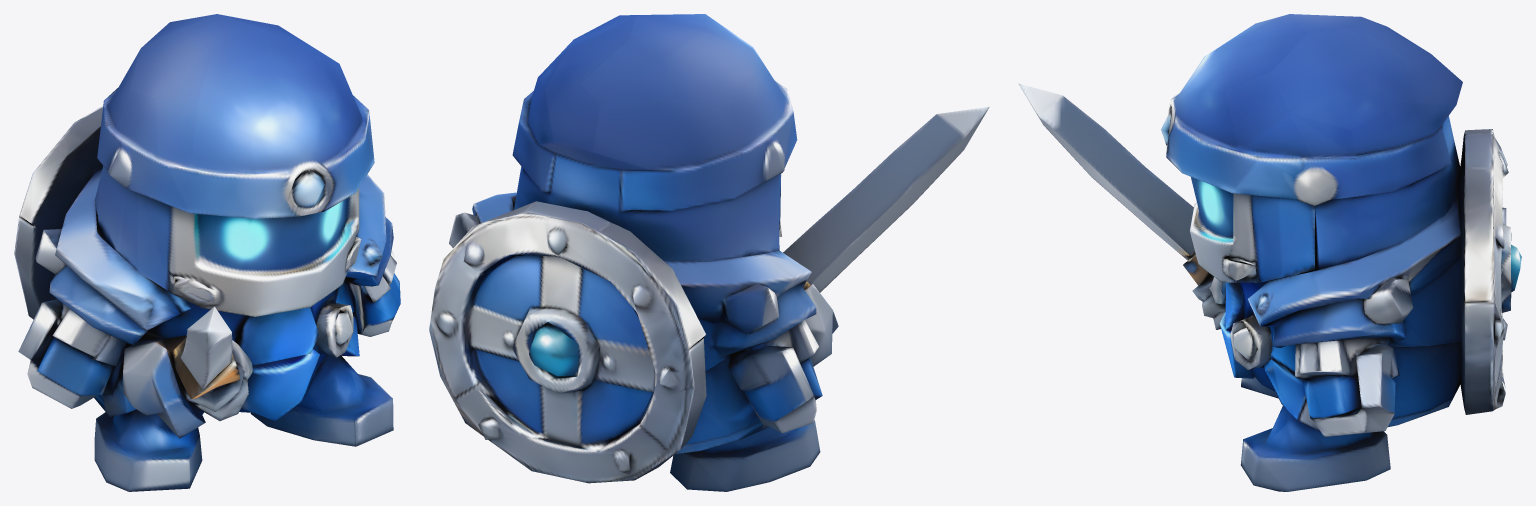
Rendered from Soldier_base_basic_shaded.fbx.
3 renders of one model, left to right at view 1: azimuth 30°, elevation 25°; view 2: azimuth 150°, elevation 25°; view 3: azimuth 270°, elevation 25°, orthographic. The views are drawn at different scales.
Parts seen in each view (by area): view 1: root.0, root.2, root.1, root.4, root.3, root.5, root.6, root.8, root.10; view 2: root.0, root.1, root.2, root.4, root.7, root.5, root.8; view 3: root.0, root.1, root.2, root.3, root.6, root.9, root.7, root.10.
Boxes of the visible parts, left/top/right/bottom form: root.0: left=49, top=14, right=396, bottom=420; root.2: left=123, top=306, right=253, bottom=438; root.1: left=14, top=106, right=103, bottom=319; root.4: left=94, top=409, right=202, bottom=491; root.3: left=250, top=355, right=393, bottom=446; root.5: left=18, top=299, right=126, bottom=408; root.6: left=356, top=273, right=400, bottom=336; root.8: left=35, top=228, right=65, bottom=274; root.10: left=335, top=312, right=353, bottom=345; root.0: left=472, top=14, right=818, bottom=454; root.1: left=429, top=201, right=706, bottom=483; root.2: left=783, top=107, right=989, bottom=366; root.4: left=670, top=420, right=820, bottom=491; root.7: left=512, top=307, right=599, bottom=393; root.5: left=728, top=344, right=822, bottom=433; root.8: left=721, top=283, right=778, bottom=333; root.0: left=1161, top=14, right=1462, bottom=430; root.1: left=1458, top=129, right=1508, bottom=414; root.2: left=1018, top=83, right=1225, bottom=329; root.3: left=1240, top=406, right=1390, bottom=491; root.6: left=1295, top=344, right=1399, bottom=436; root.9: left=1363, top=277, right=1413, bottom=323; root.7: left=1501, top=224, right=1521, bottom=312; root.10: left=1233, top=327, right=1256, bottom=362.
Bounding box in the file's own units: 161 × 173 × 195.
